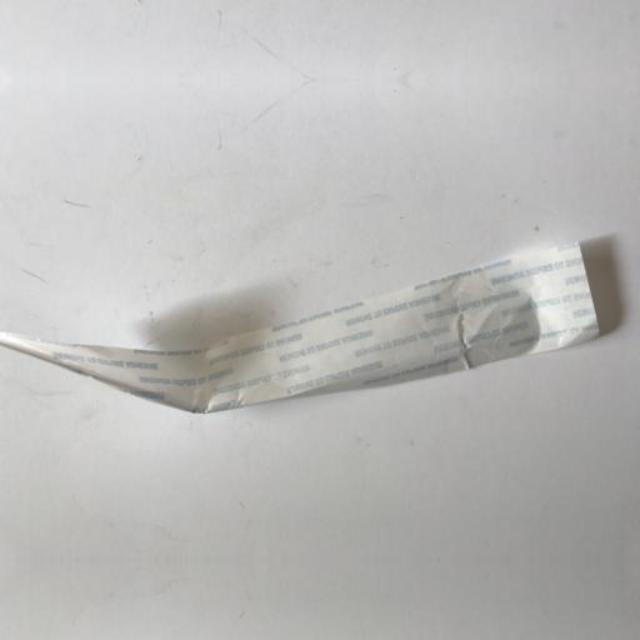paper: (0, 238, 598, 409)
